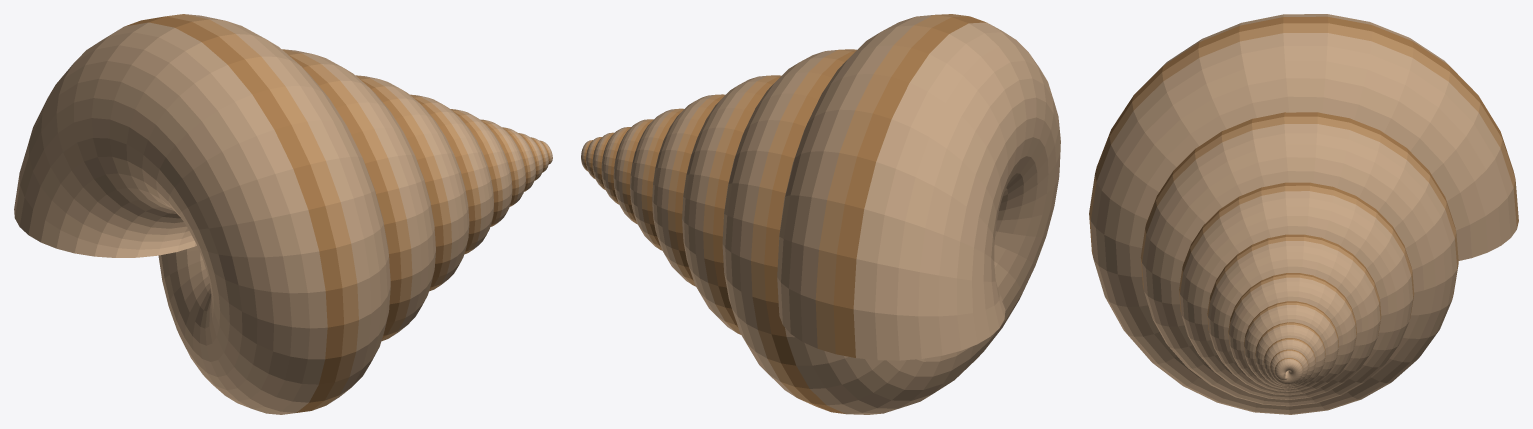
The model's file is shell.fbx.
The picture shows the model from 3 angles, left to right: view 1: azimuth 30°, elevation 25°; view 2: azimuth 150°, elevation 25°; view 3: azimuth 270°, elevation 25°; orthographic projection. The views are drawn at different scales.
Parts seen in each view (by area): view 1: Shell; view 2: Shell; view 3: Shell.
Boxes of the visible parts, <box> form: Shell: <box>14,14,552,414</box>; Shell: <box>581,14,1060,414</box>; Shell: <box>1089,14,1518,414</box>.
Bounding box in the file's own units: 483 × 377 × 407.
